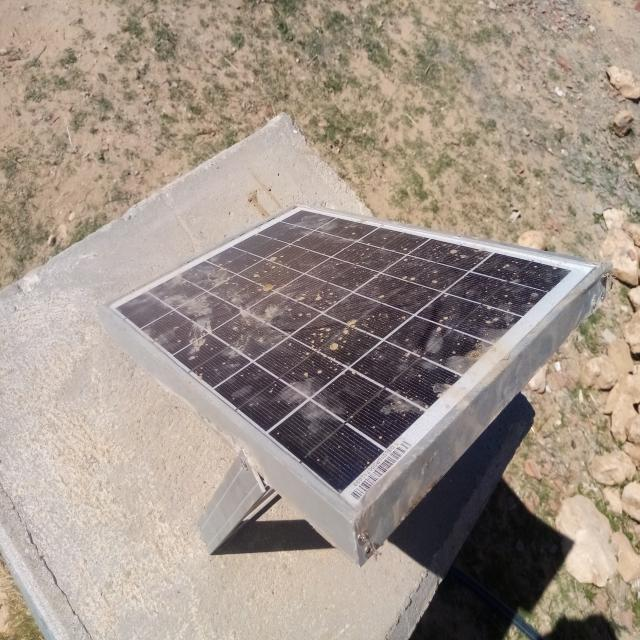faulty: (108, 205, 594, 515)
